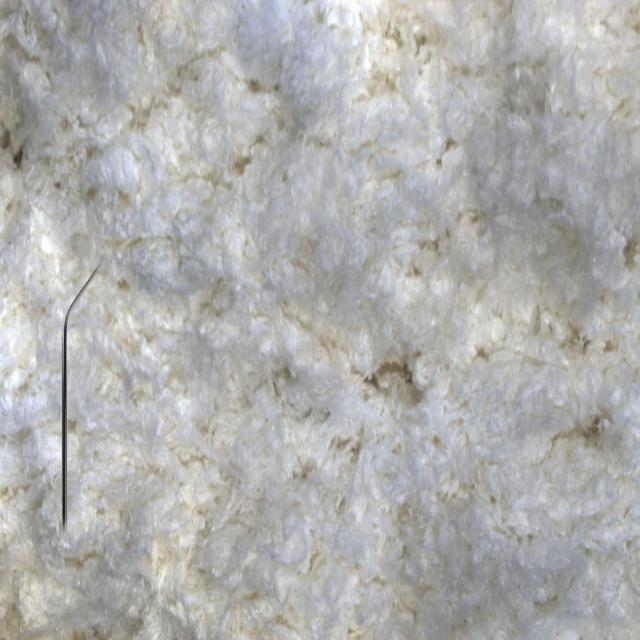dust: (19, 234, 121, 565)
